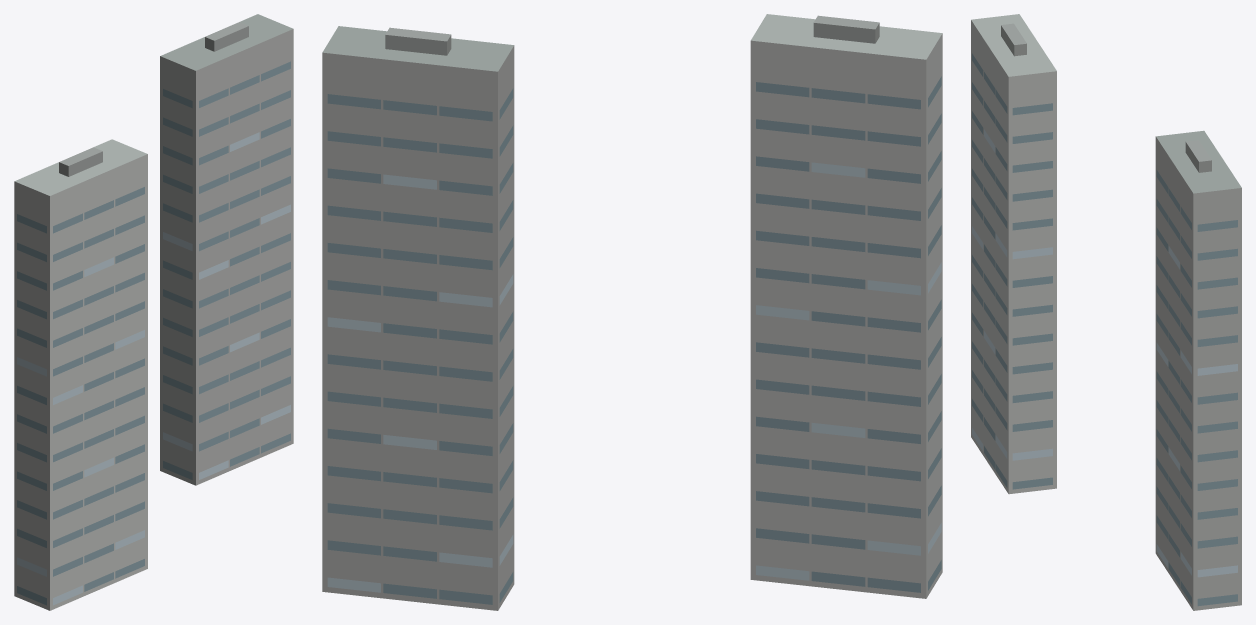
File: apt-a10026874.glb
The picture shows the model from 3 angles, left to right: view 1: azimuth 30°, elevation 25°; view 2: azimuth 150°, elevation 25°; view 3: azimuth 270°, elevation 25°; orthographic projection. The views are drawn at different scales.
Parts seen in each view (by area): view 1: apt-a10026874; view 2: apt-a10026874; view 3: apt-a10026874.
Part boxes in pixels (left/top/right/bottom): apt-a10026874: left=14, top=14, right=293, bottom=610; apt-a10026874: left=322, top=14, right=942, bottom=610; apt-a10026874: left=971, top=14, right=1241, bottom=610.
Size of the model in its own units: 83.6 by 93 by 53.31.
